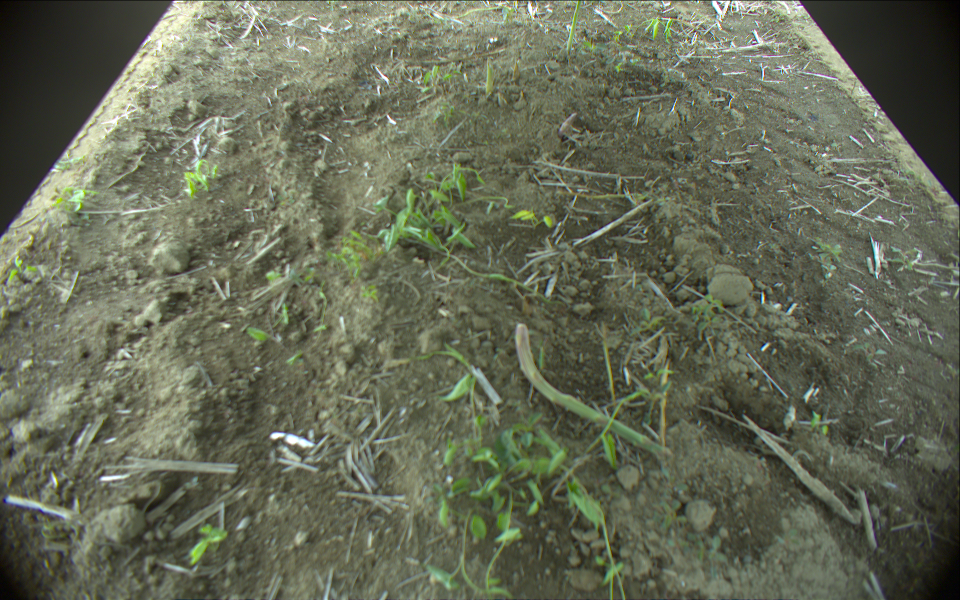aspa: (515, 322, 668, 459), (567, 1, 582, 51), (485, 58, 496, 94)
